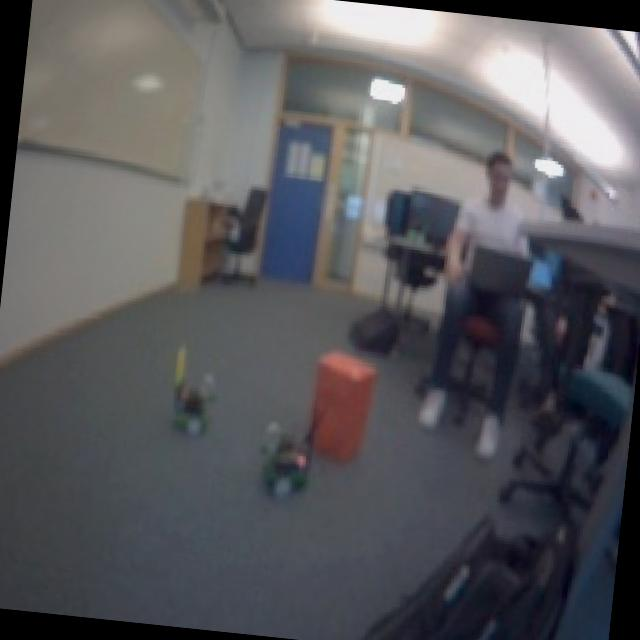robot: (253, 433, 317, 502), (167, 369, 222, 438)
target: (303, 346, 377, 462)
